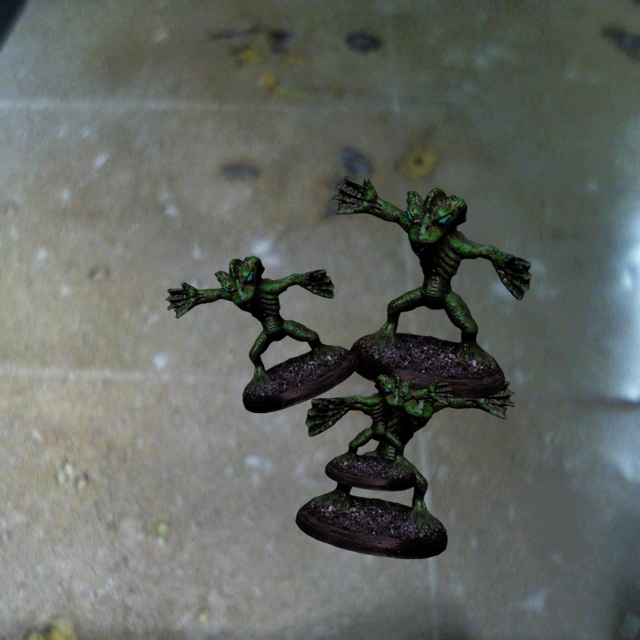pieza_juego: (331, 176, 530, 398), (295, 362, 514, 558), (165, 256, 358, 412), (325, 373, 452, 491)
